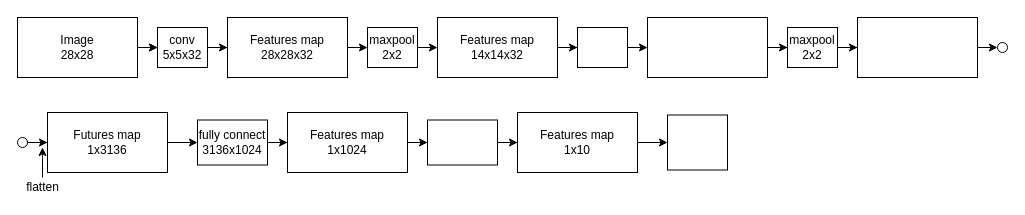
The diagram is 1025 pixels wide and 215 high, and some of its shapes have lost their labels. Each missing label, with the centre of its shape:
conv 5x5x64: (602,47)
Digit: (697,142)
Features map 14x14x64: (707,47)
Features map 7x7x64: (917,47)
fully connect 1024x10: (462,142)
